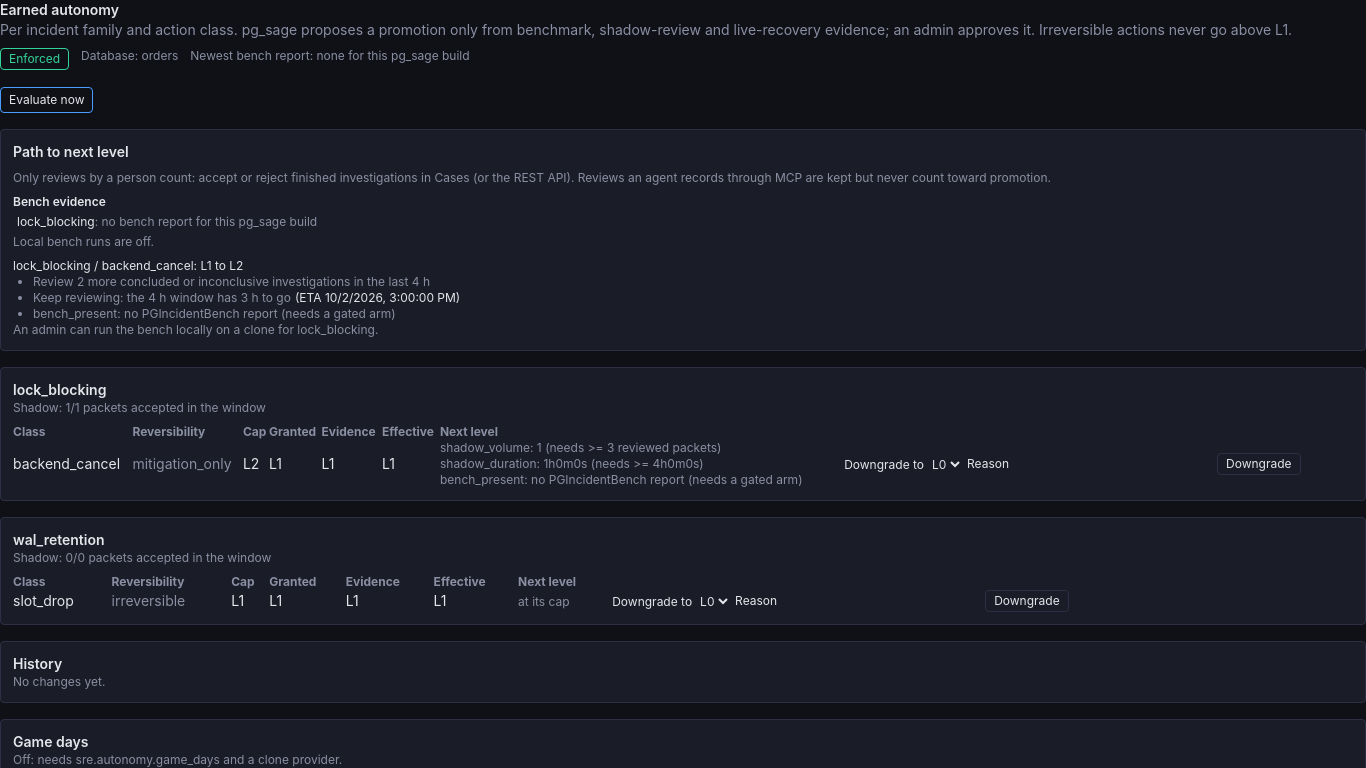
Test: AutonomyPage promotion coach › evaluates the selected database and shows what was not proposed and why
Click the button "Evaluate now": (47, 100) [0,87,94,113]
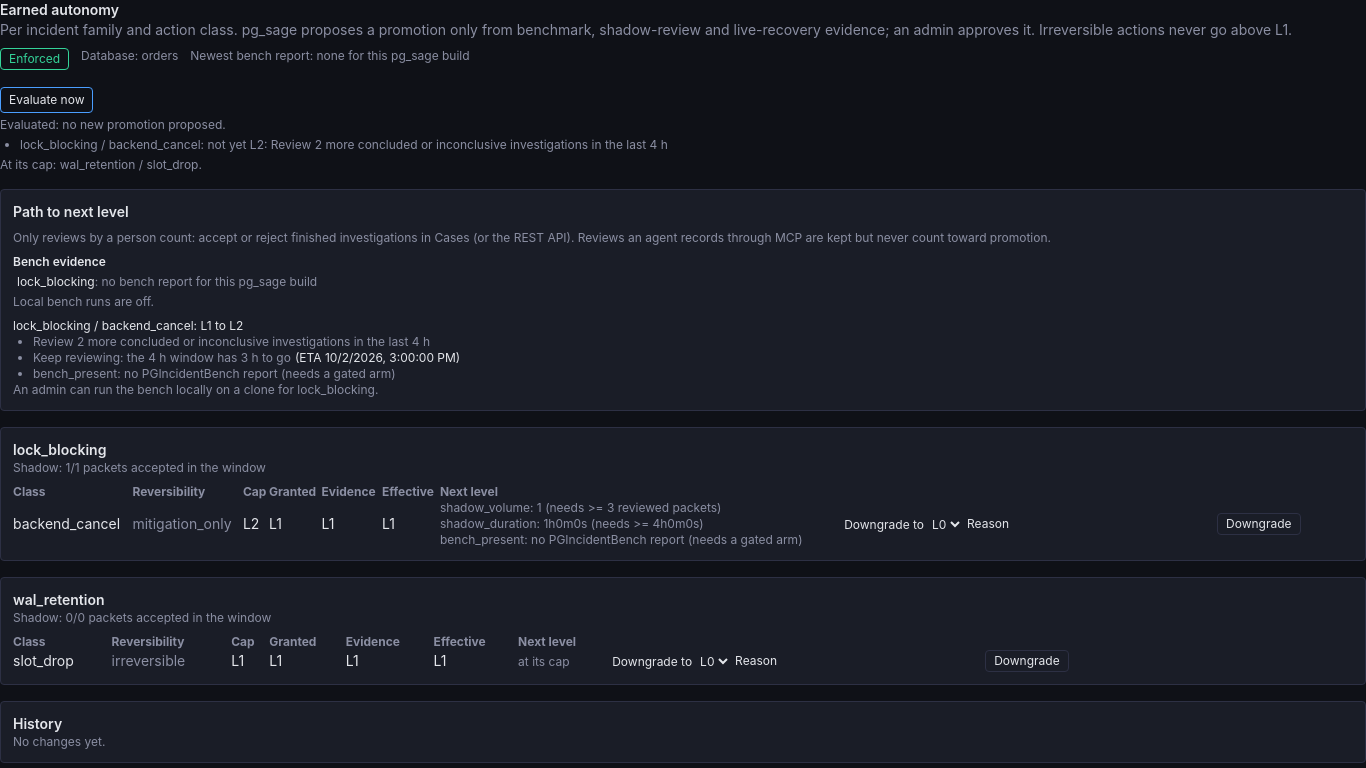
Expected: the element with test id "evaluate-result" shows "no new promotion", [0,117,226,132]
Expected: the element with test id "evaluate-result" shows "lock_blocking / backend_cancel", [0,117,668,172]
Expected: the element with test id "evaluate-result" shows "Review 2 more concluded", [271,137,668,152]
